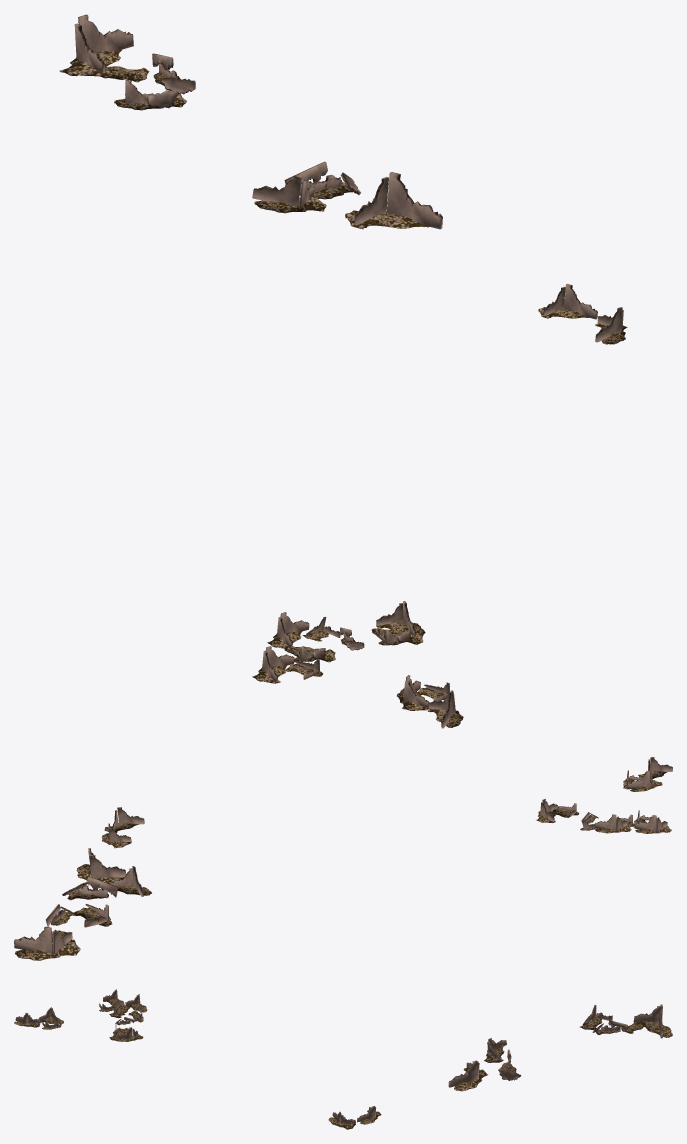
The model's file is Broken_Wall.FBX.
3 views of the same model, one above another, from view 1: azimuth 30°, elevation 25°; view 2: azimuth 150°, elevation 25°; view 3: azimuth 270°, elevation 25° (orthographic). The views are drawn at different scales.
Visible parts, largest first — view 1: Broken_Wall_014; view 2: Broken_Wall_014; view 3: Broken_Wall_014.
Boxes of the visible parts, bbox=[...] form: Broken_Wall_014: bbox=[59, 14, 627, 728]; Broken_Wall_014: bbox=[14, 757, 672, 960]; Broken_Wall_014: bbox=[14, 989, 672, 1129].
Size of the model in its own units: 227 by 61.21 by 426.
